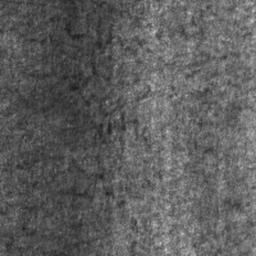Crazing: (15, 60, 227, 152), (16, 152, 151, 256), (64, 16, 256, 74), (156, 25, 206, 42), (6, 197, 48, 215), (49, 32, 55, 46), (23, 38, 38, 43)
